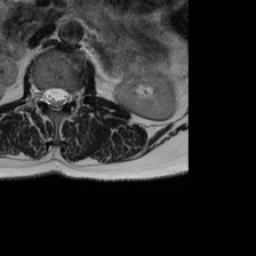CCS_normal: (51, 80, 59, 115)
LFS_normal: (69, 84, 78, 104)
LLS_normal: (60, 83, 69, 110)
RFS_normal: (35, 83, 44, 108)
RLS_normal: (42, 83, 51, 108)
